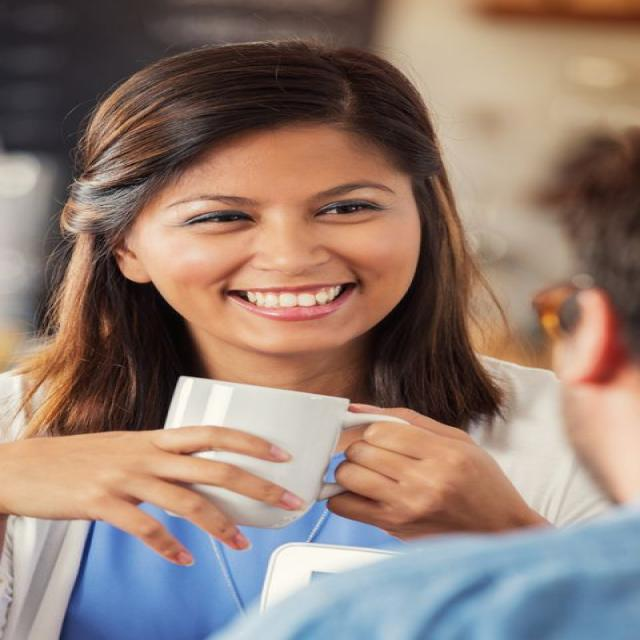mobile_phonerotation: (158, 374, 410, 530)
